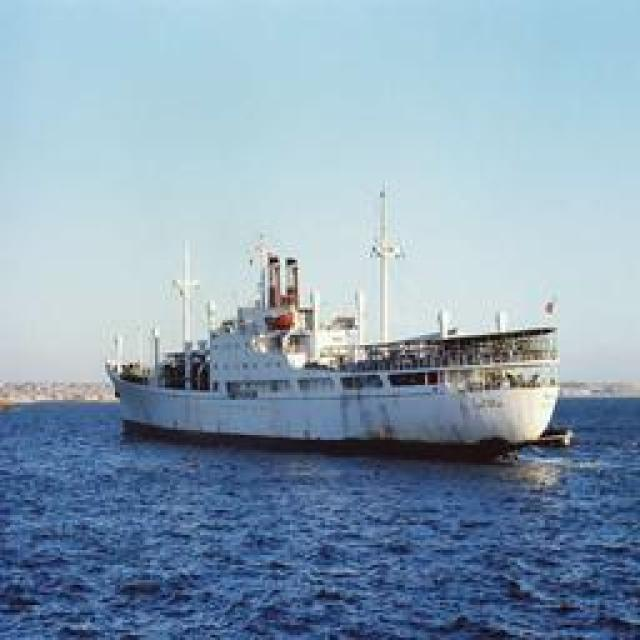CIV_Ship: (110, 185, 560, 468)
